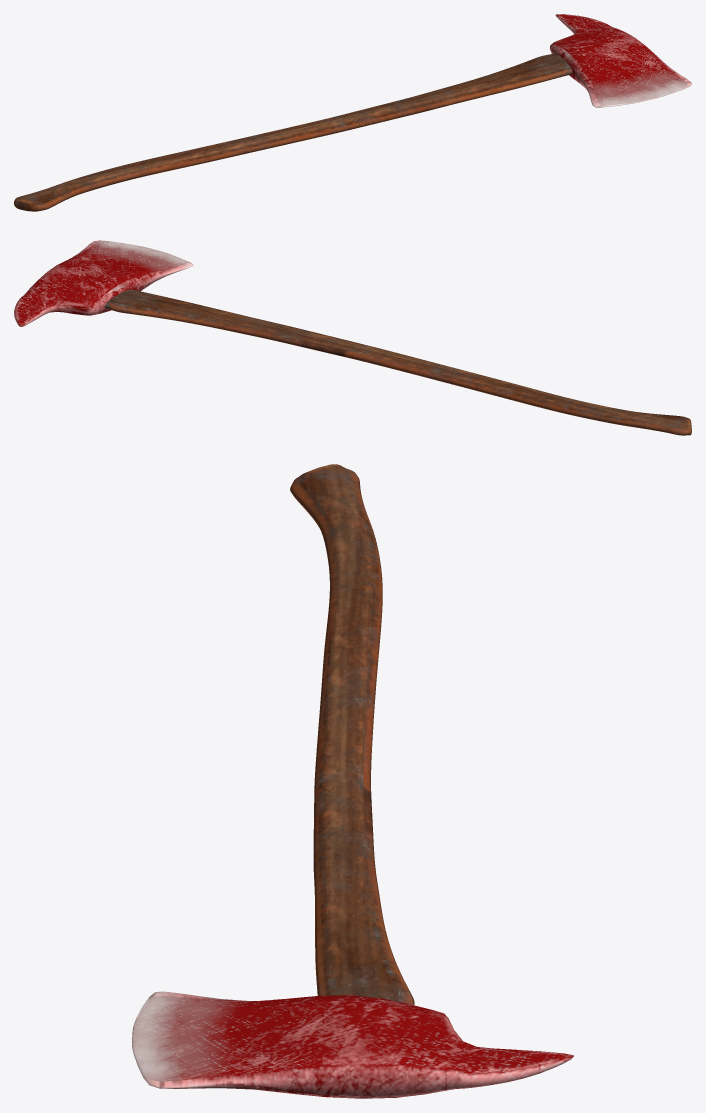
The model's file is siekierablend3.glb.
3 views of the same model, one above another, from view 1: azimuth 30°, elevation 25°; view 2: azimuth 150°, elevation 25°; view 3: azimuth 270°, elevation 25° (orthographic). The views are drawn at different scales.
Parts seen in each view (by area): view 1: Axe; view 2: Axe; view 3: Axe.
Boxes of the visible parts, x1,y1,x2,y2 form: Axe: (14,14,691,211); Axe: (14,240,691,435); Axe: (132,464,573,1098).
Bounding box in the file's own units: 22.63 × 0.8435 × 6.85.
2 materials, 2 textured.
